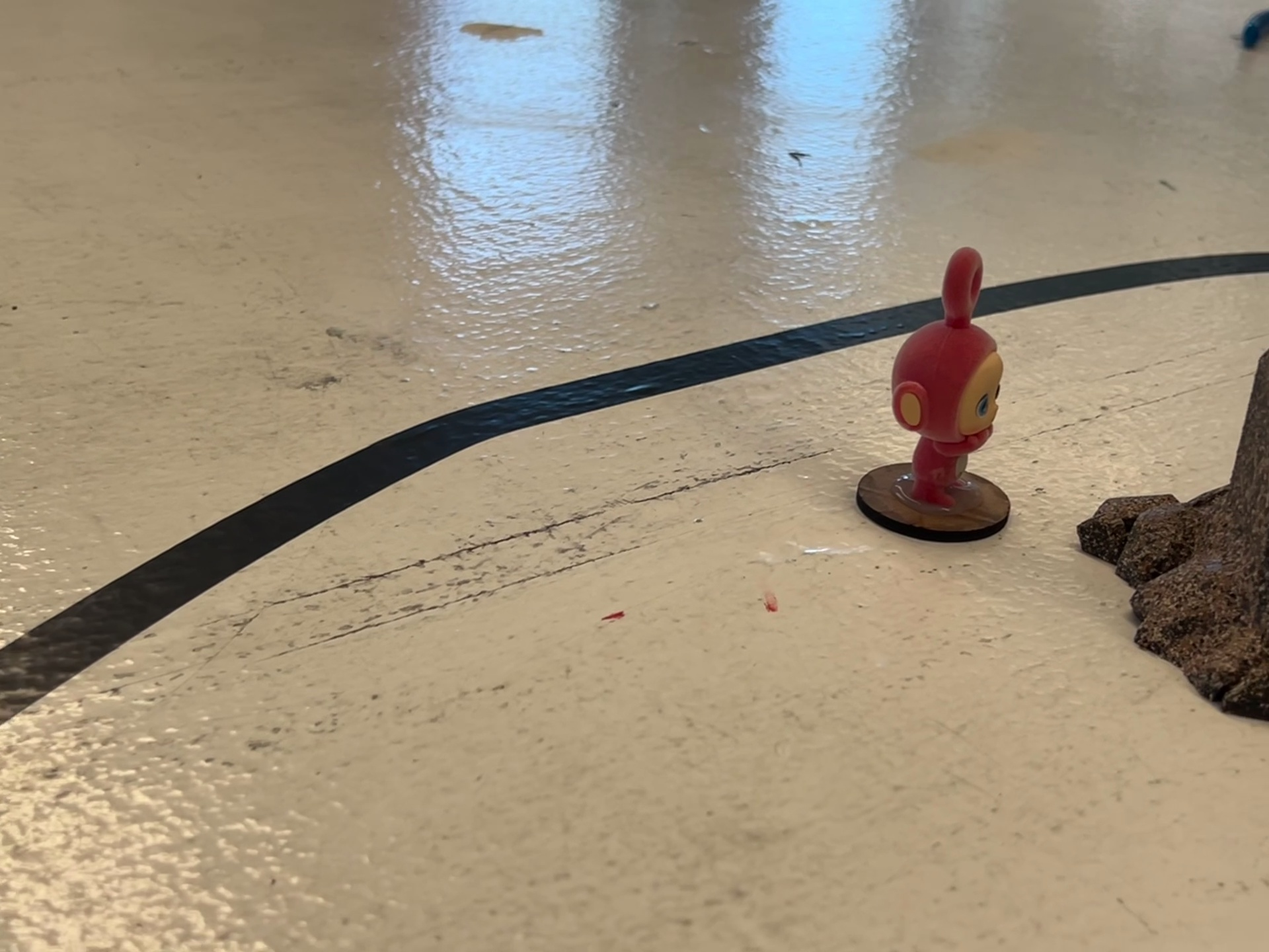teletubby: (891, 247, 1003, 510)
